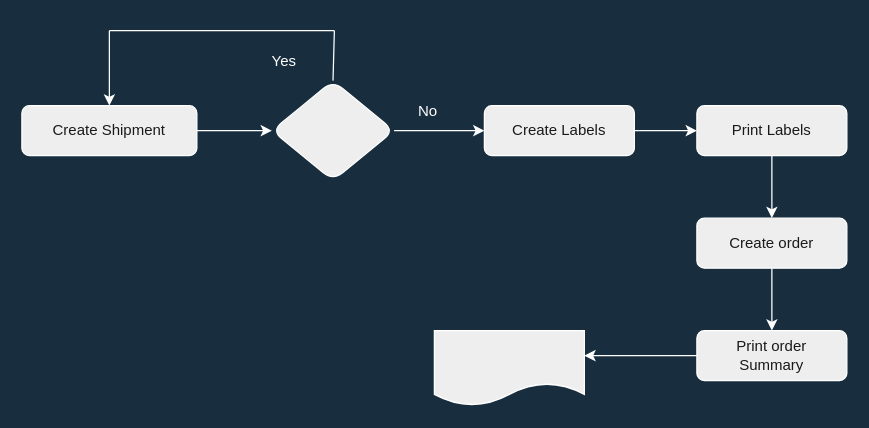
This 869x428 diagram has some shape labels left out. The shapes that lost their labels are listed below. From the top down, each one's box as (x1, y1, x2, y2) in pixels, then its label:
(271, 79, 394, 181): More Shipments?
(433, 329, 584, 406): Order Summary (1per pick up)
